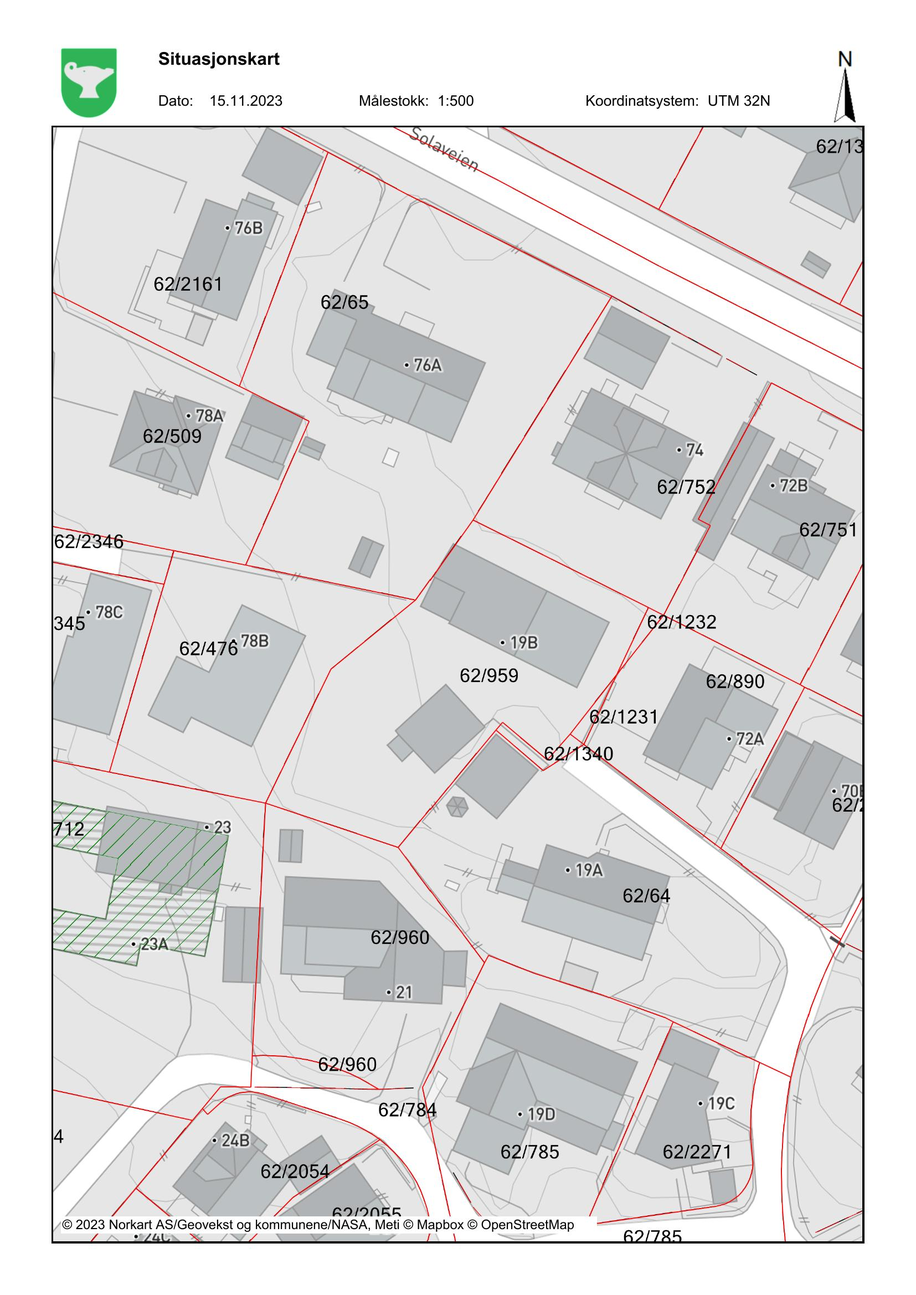situasjonskart: (49, 124, 868, 1248)
